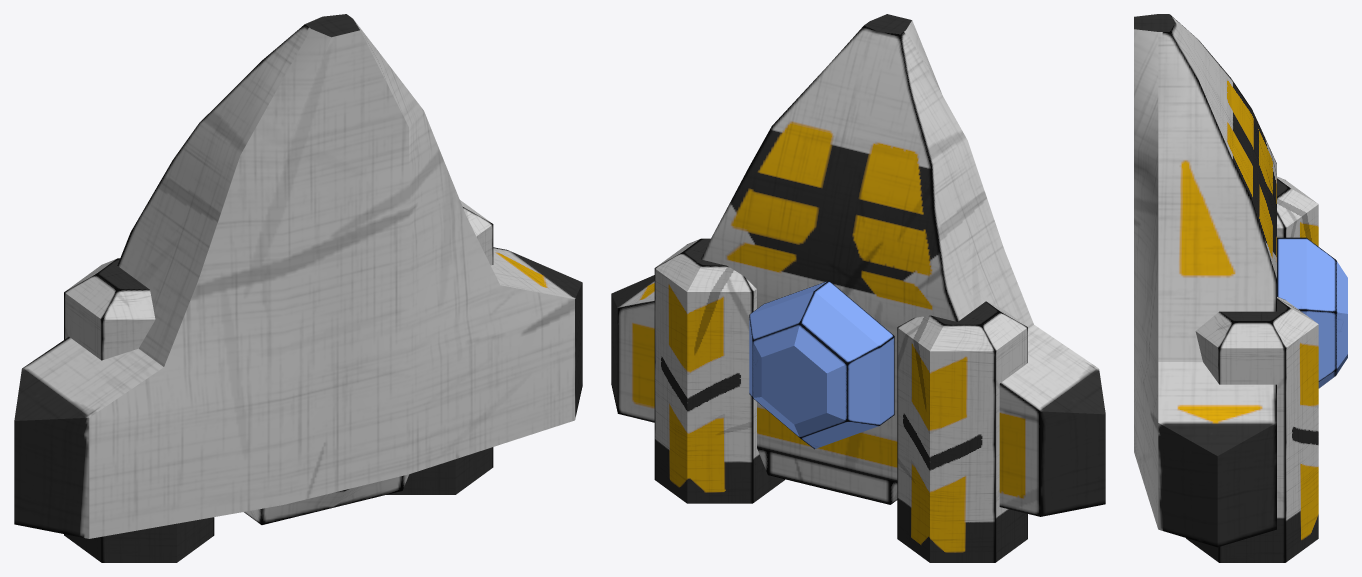
The model's file is Playership 1.fbx.
3 renders of one model, left to right at view 1: azimuth 30°, elevation 25°; view 2: azimuth 150°, elevation 25°; view 3: azimuth 270°, elevation 25°, orthographic. The views are drawn at different scales.
Visible parts, largest first — view 1: Playership_Body, Thruster.001; view 2: Playership_Body, Thruster.001, Playership_Cockpit; view 3: Playership_Body, Thruster.001, Playership_Cockpit.
Part boxes in pixels (left/top/right/bottom): Playership_Body: left=14, top=14, right=582, bottom=538; Thruster.001: left=64, top=200, right=493, bottom=562; Playership_Body: left=611, top=14, right=1105, bottom=516; Thruster.001: left=654, top=238, right=1027, bottom=562; Playership_Cockpit: left=749, top=280, right=894, bottom=449; Playership_Body: left=1134, top=14, right=1276, bottom=547; Thruster.001: left=1186, top=176, right=1318, bottom=562; Playership_Cockpit: left=1277, top=237, right=1347, bottom=388.
Size of the model in its own units: 0.9781 by 0.8498 by 0.3615.
1 material, 1 textured.
